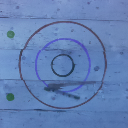Axe Tip: (49, 85, 62, 88)
